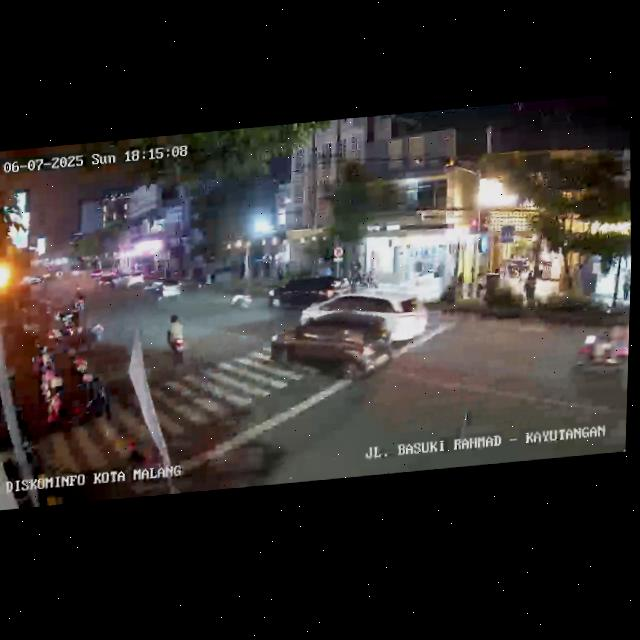car: (269, 307, 392, 387), (300, 287, 432, 353), (266, 272, 351, 311), (142, 274, 182, 304), (108, 270, 145, 293)
motorcycle: (569, 321, 629, 389), (162, 311, 187, 362), (82, 318, 107, 349), (229, 286, 254, 313)
person: (523, 270, 537, 305), (622, 269, 631, 301)
